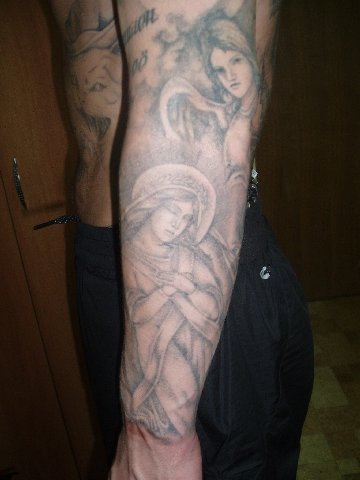tatu1_angel: (119, 162, 243, 435), (158, 8, 261, 158)
